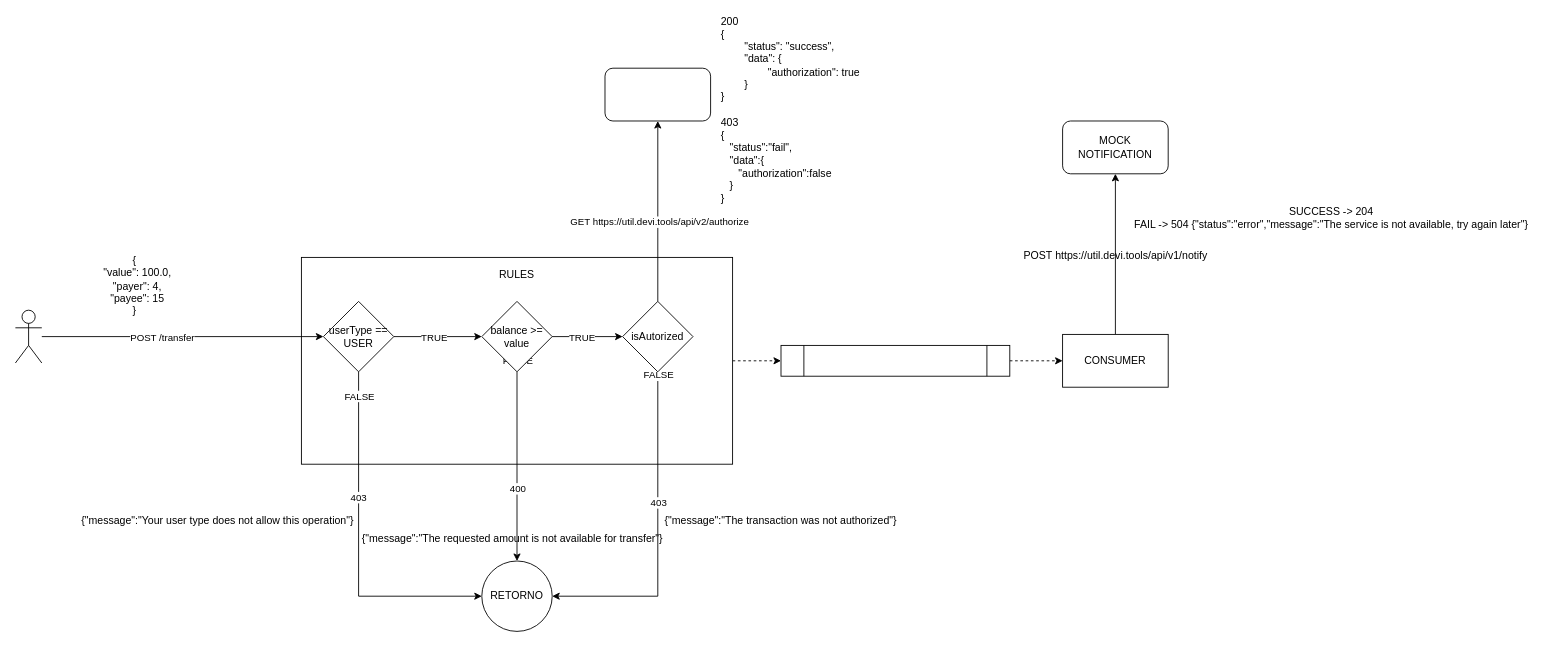
This 1553x647 diagram has some shape labels left out. The box of each missing label's shape, as (x1, y1, x2, y2) in pixels:
MOCK AUTORIZATION: (604, 67, 711, 121)
queue-notification: (780, 345, 1010, 376)
User: (15, 309, 42, 363)
